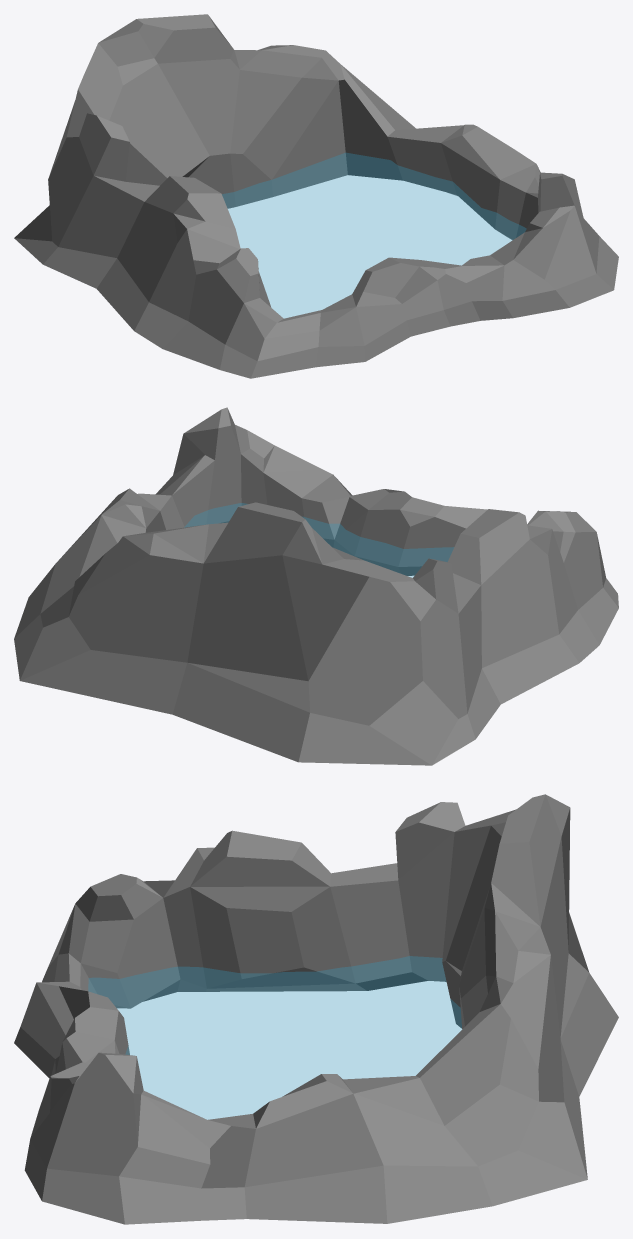
The model's file is water_pot.fbx.
3 renders of one model, top to bottom at view 1: azimuth 30°, elevation 25°; view 2: azimuth 150°, elevation 25°; view 3: azimuth 270°, elevation 25°, orthographic. The views are drawn at different scales.
Visible parts, largest first — view 1: water_pot, water; view 2: water_pot, water; view 3: water_pot, water.
Boxes of the visible parts, x1,y1,x2,y2 form: water_pot: [14, 14, 618, 378]; water: [222, 153, 525, 318]; water_pot: [14, 407, 618, 765]; water: [184, 503, 453, 577]; water_pot: [14, 794, 618, 1224]; water: [88, 956, 461, 1119].
Bounding box in the file's own units: 1478 × 611 × 1403.
